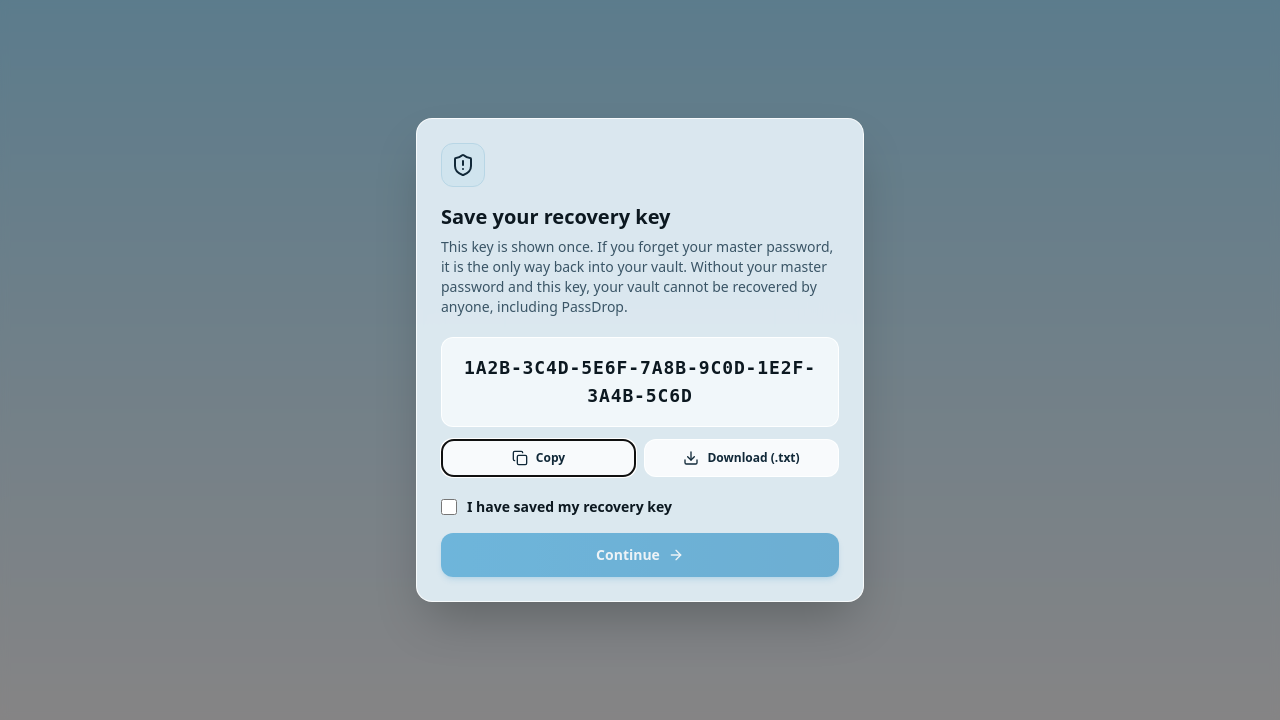
Scenario: RecoveryKey › says so, and does not claim a copy, when the browser will not copy
Click the button "Copy" at {"x": 538, "y": 458}, box [441, 439, 636, 477]
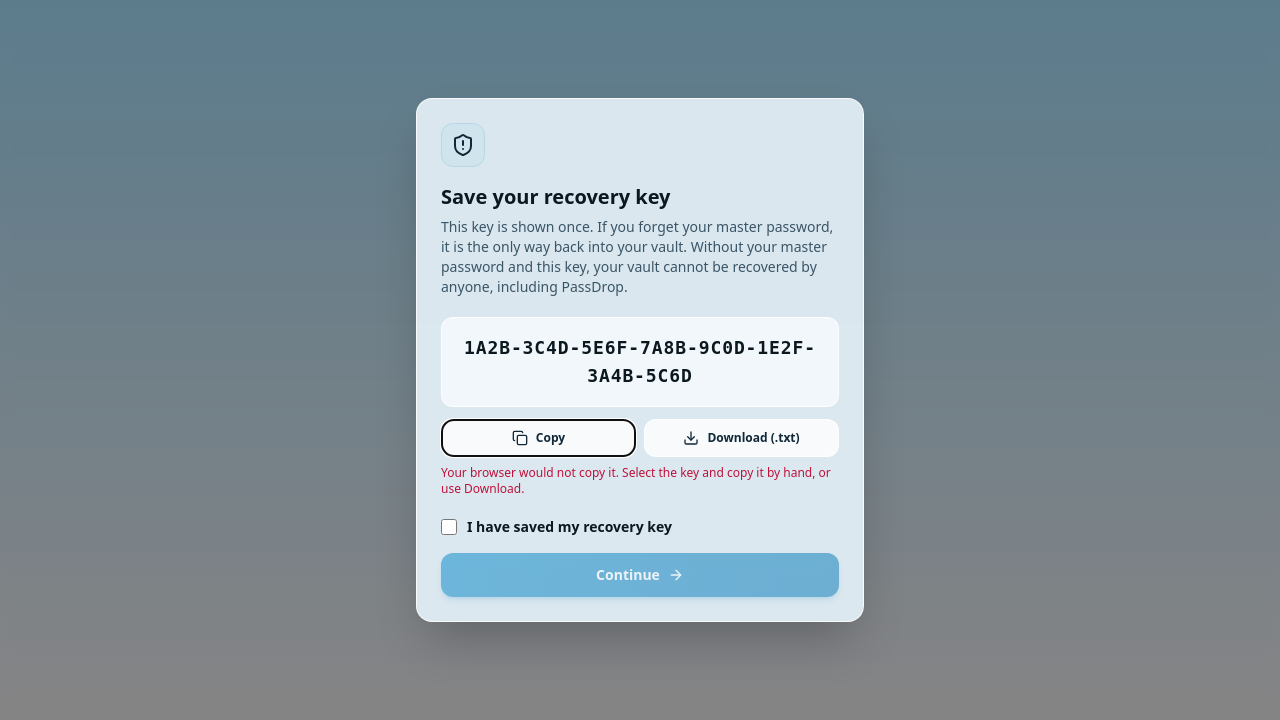
Expected: the message shows "copy it by hand, or use Download", [441, 464, 831, 497]
